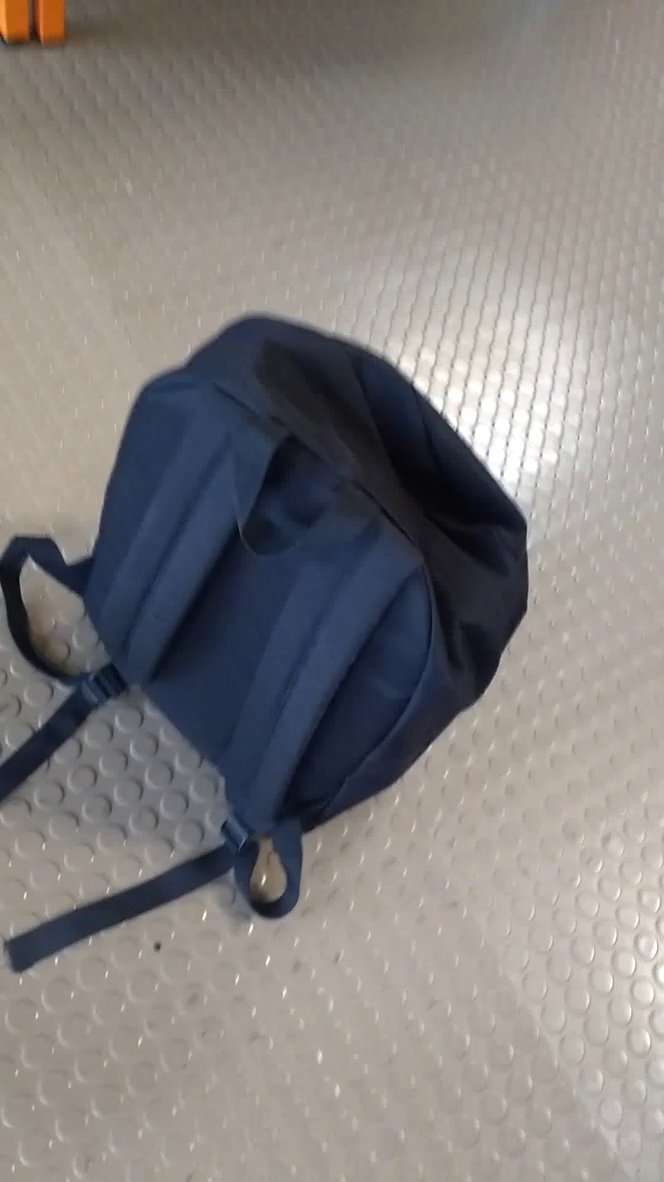bag: (2, 291, 548, 1000)
